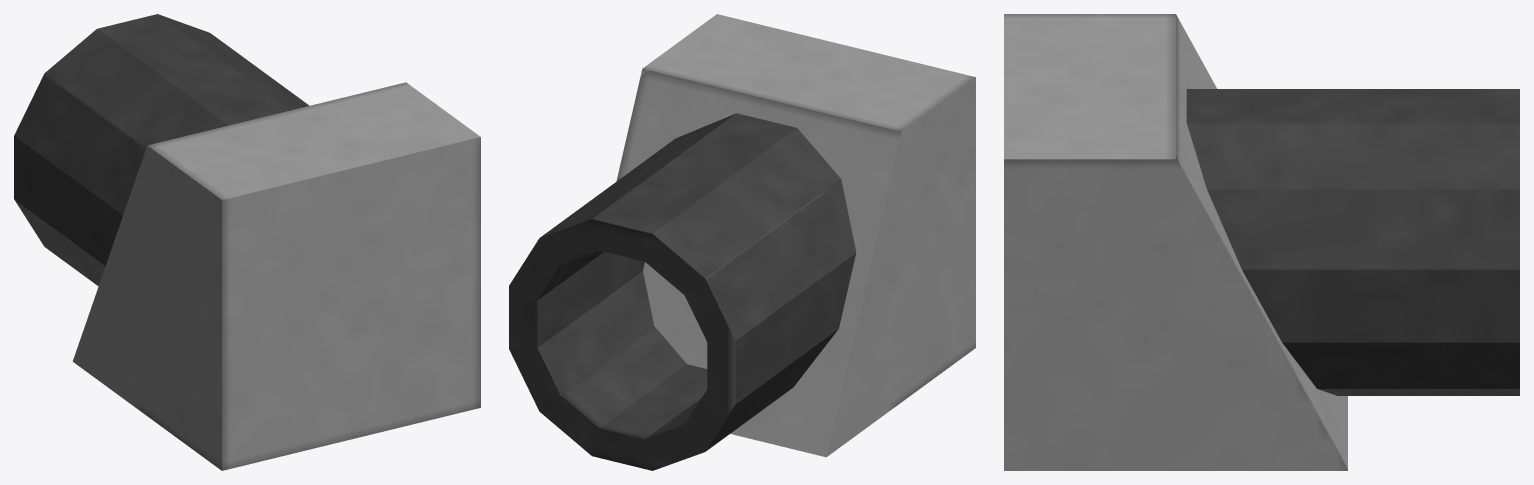
Rendered from fluid_depositor.obj.
The picture shows the model from 3 angles, left to right: view 1: azimuth 30°, elevation 25°; view 2: azimuth 150°, elevation 25°; view 3: azimuth 270°, elevation 25°; orthographic projection. The views are drawn at different scales.
Visible parts, largest first — view 1: cuboid, tube; view 2: tube, cuboid; view 3: cuboid, tube.
Boxes of the visible parts, box(x1,y1,x2,y2) form: cuboid: box(72, 82, 480, 470); tube: box(14, 14, 309, 286); tube: box(509, 113, 856, 470); cuboid: box(616, 14, 975, 457); cuboid: box(1004, 14, 1347, 470); tube: box(1176, 89, 1519, 395).
Bounding box in the file's own units: 1 × 1 × 1.5.
